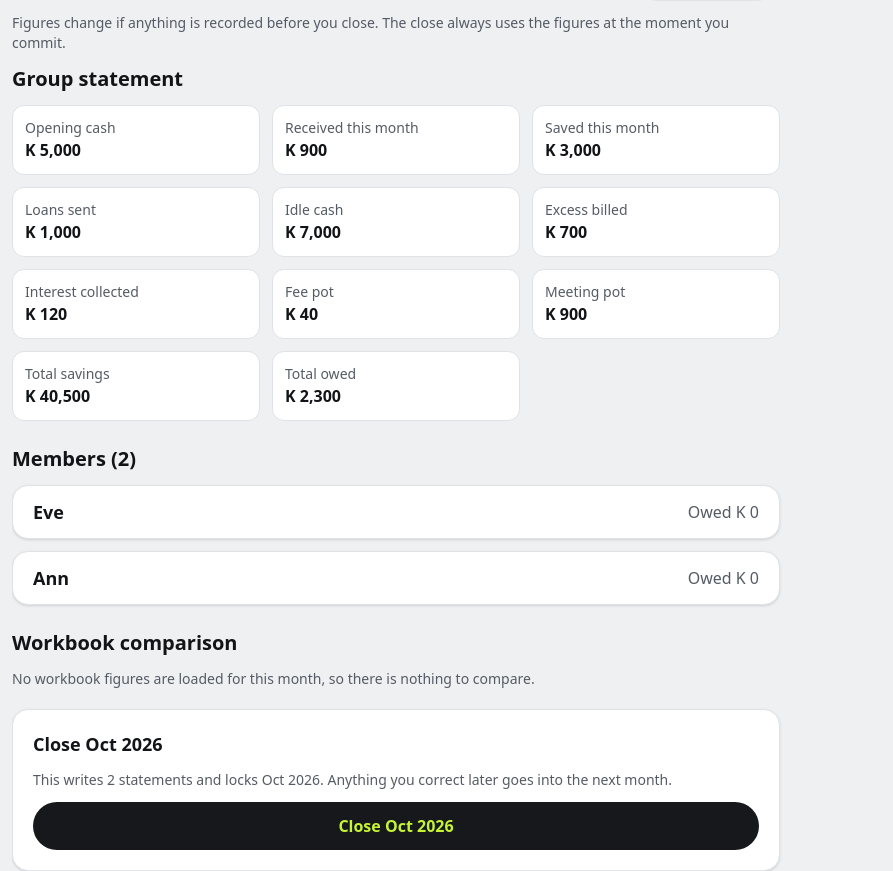
Test: closing takes a second tap and sends the commit once, then goes back to the Desk
(page scrolled)
Click the button "Close Oct 2026" at [396, 826], box x1=33 y1=802 x2=759 y2=850
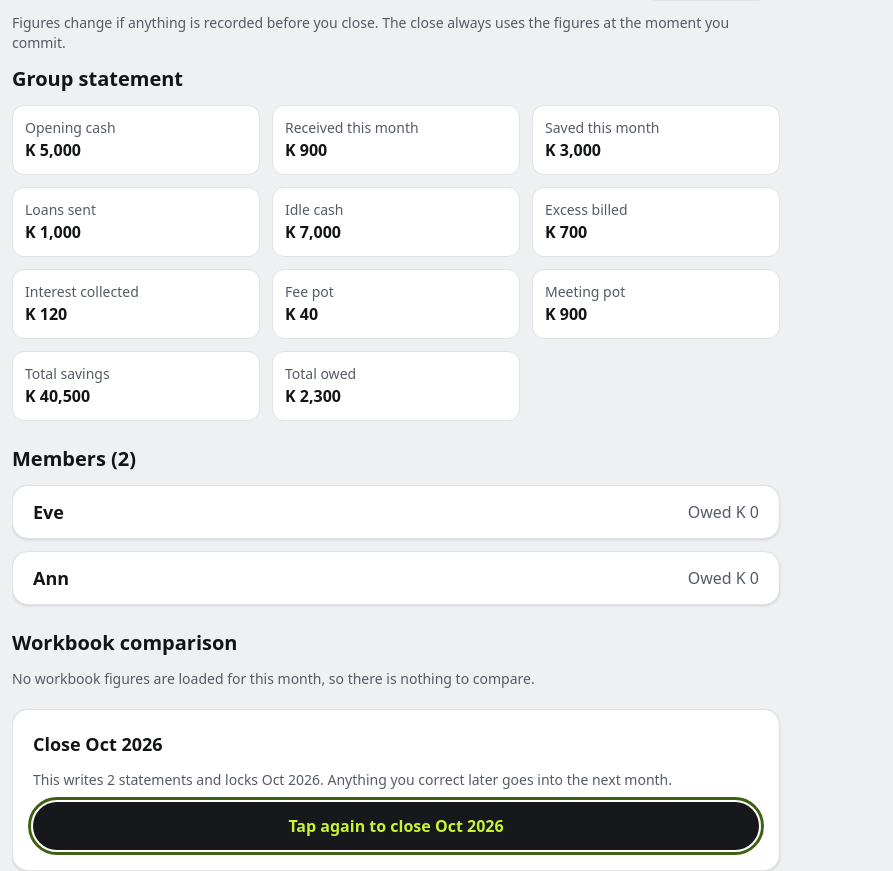
Click the button "Tap again to close Oct 2026" at [396, 826], box x1=33 y1=802 x2=759 y2=850
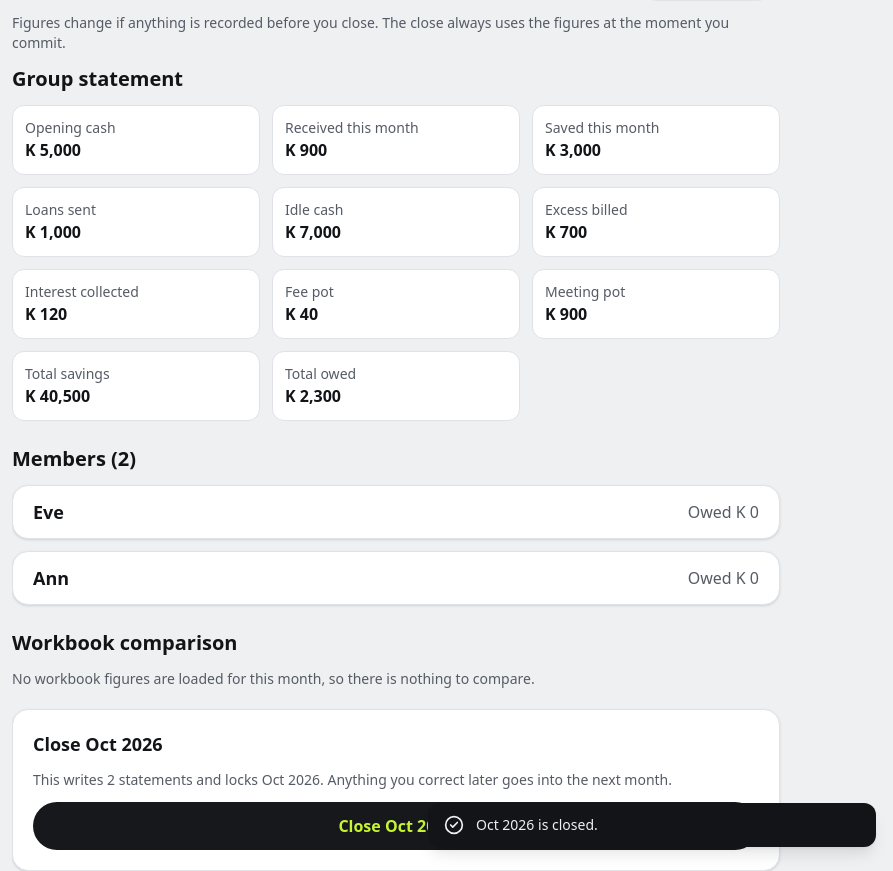
Expected: the text "Oct 2026 is closed." is shown, x1=476 y1=815 x2=598 y2=834
